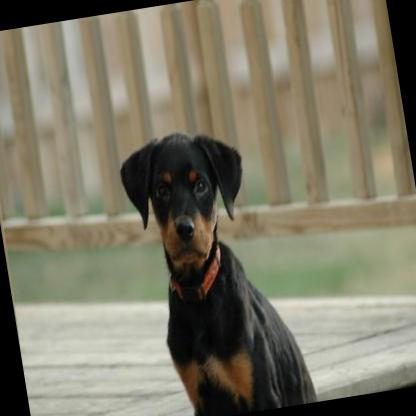Rottweiler: (112, 111, 316, 416)
